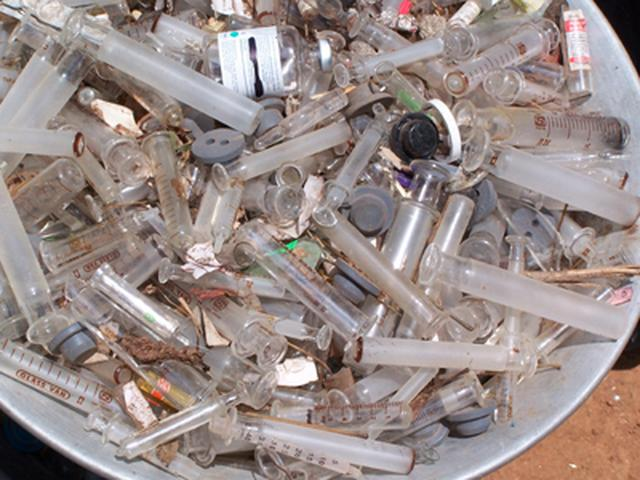garbage: (70, 54, 544, 408)
